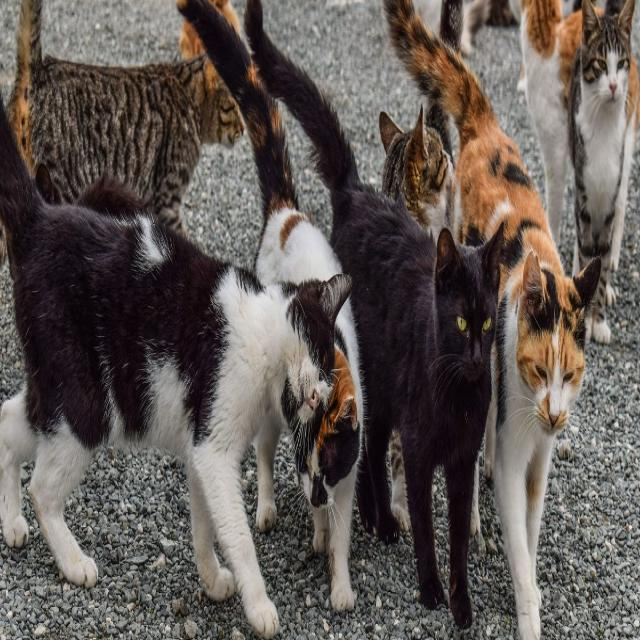cat: (0, 101, 350, 636), (245, 2, 502, 626), (384, 0, 600, 636), (8, 0, 244, 230), (199, 5, 340, 282), (569, 0, 634, 342), (295, 300, 362, 611), (520, 0, 581, 244), (379, 105, 454, 239), (256, 418, 281, 531)
